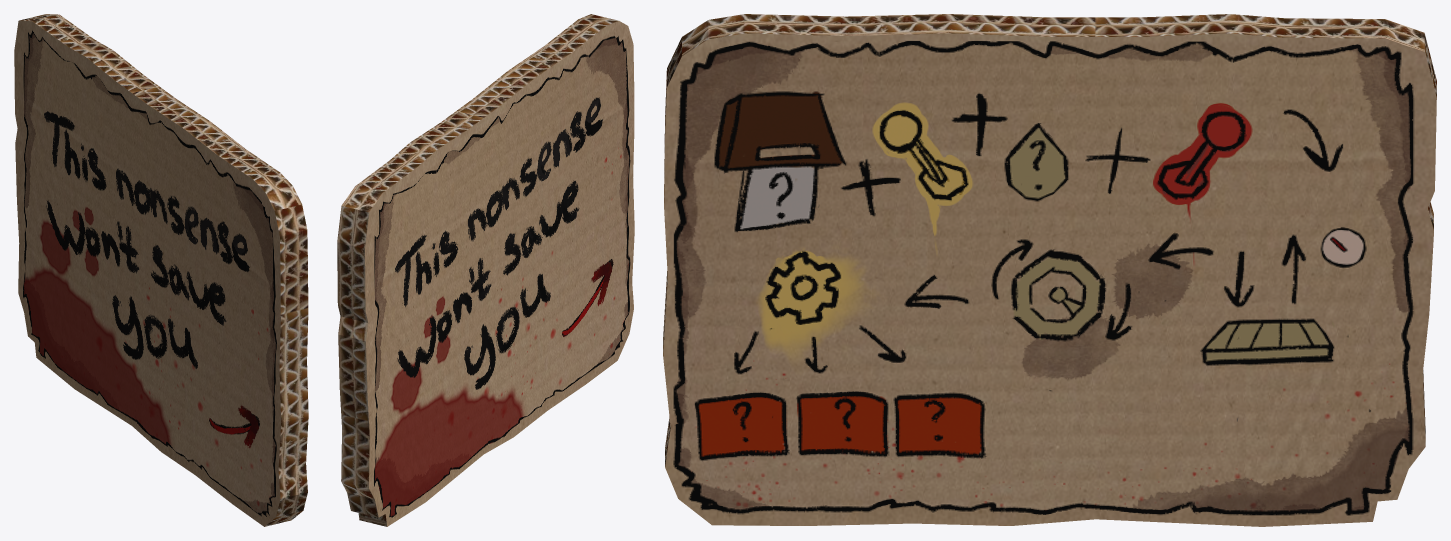
The model's file is Instruction.fbx.
3 views of the same model, side by side, from view 1: azimuth 30°, elevation 25°; view 2: azimuth 150°, elevation 25°; view 3: azimuth 270°, elevation 25° (orthographic). The views are drawn at different scales.
Visible parts, largest first — view 1: Plane.008; view 2: Plane.008; view 3: Plane.008.
Part boxes in pixels (x1,y1,x2,y2): Plane.008: (14, 14, 308, 526); Plane.008: (337, 14, 634, 526); Plane.008: (663, 14, 1436, 526).
Bounding box in the file's own units: 4.13 × 48.84 × 69.38.
1 material, 1 textured.
